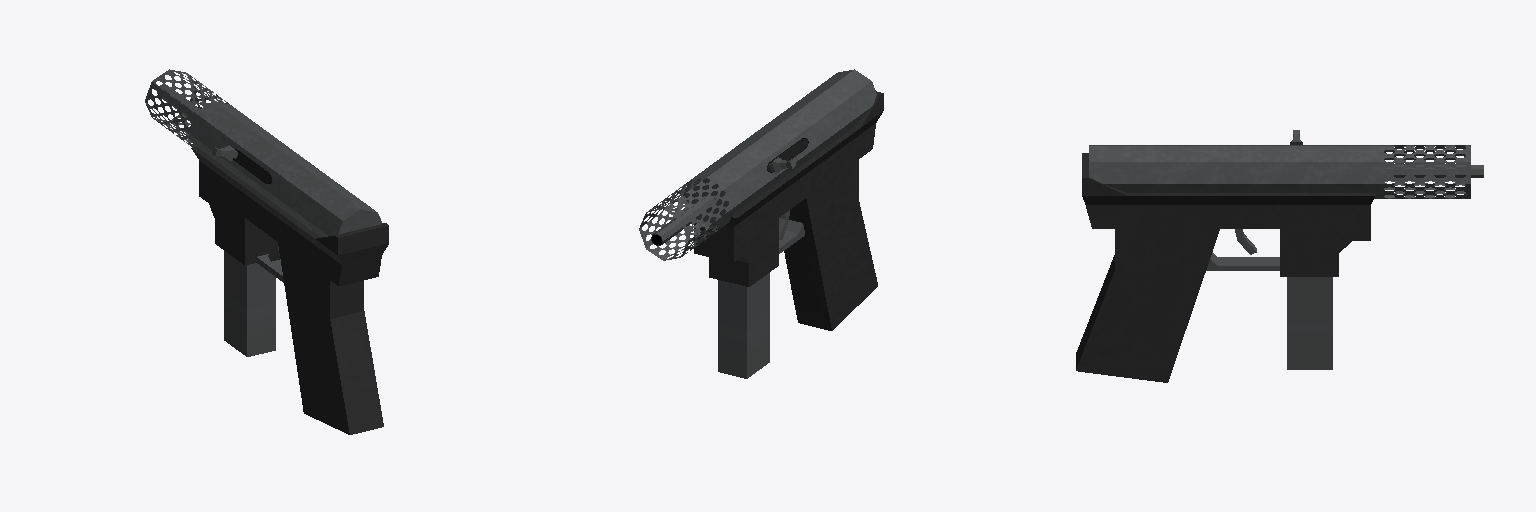
The picture shows the model from 3 angles: view 1: azimuth 30°, elevation 25°; view 2: azimuth 150°, elevation 25°; view 3: azimuth 270°, elevation 25°; orthographic projection.
Visible parts, largest first — view 1: grip, barrel, cube, mag, cuboid, barrelHeatsink; view 2: grip, barrel, cube, mag, cuboid, barrelHeatsink, endofbarrel; view 3: grip, barrel, cube, cuboid, mag, barrelHeatsink, endofbarrel.
Part boxes in pixels (bbox=[...]): grip: bbox=[278, 242, 383, 434]; barrel: bbox=[191, 103, 382, 236]; cube: bbox=[191, 147, 388, 285]; mag: bbox=[224, 251, 275, 356]; cuboid: bbox=[199, 145, 283, 282]; barrelHeatsink: bbox=[145, 69, 231, 147]; grip: bbox=[784, 160, 877, 330]; barrel: bbox=[685, 69, 876, 226]; cube: bbox=[694, 91, 883, 250]; mag: bbox=[718, 273, 769, 378]; cuboid: bbox=[694, 157, 804, 286]; barrelHeatsink: bbox=[639, 176, 733, 260]; endofbarrel: bbox=[651, 195, 714, 245]; grip: bbox=[1076, 229, 1219, 382]; barrel: bbox=[1089, 145, 1378, 198]; cube: bbox=[1082, 153, 1375, 228]; cuboid: bbox=[1206, 130, 1370, 276]; mag: bbox=[1287, 277, 1332, 369]; barrelHeatsink: bbox=[1379, 145, 1470, 198]; endofbarrel: bbox=[1384, 165, 1483, 177].
Size of the model in its own units: 0.3786 by 1.2 by 1.94.
Materials: 6 (5 with a texture image).